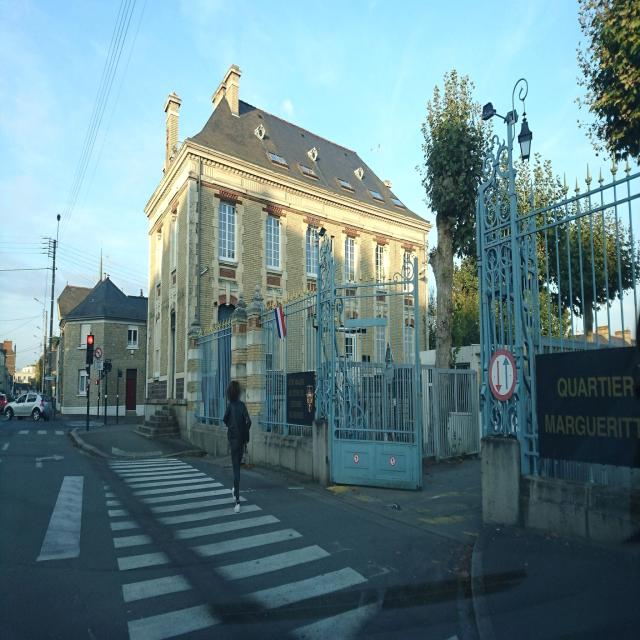car: (4, 392, 51, 422), (0, 392, 7, 411)
